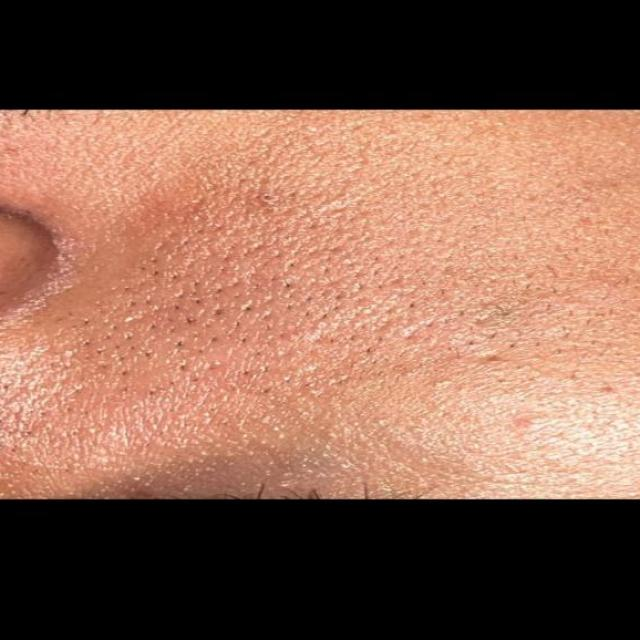blackhead: (42, 229, 556, 402)
